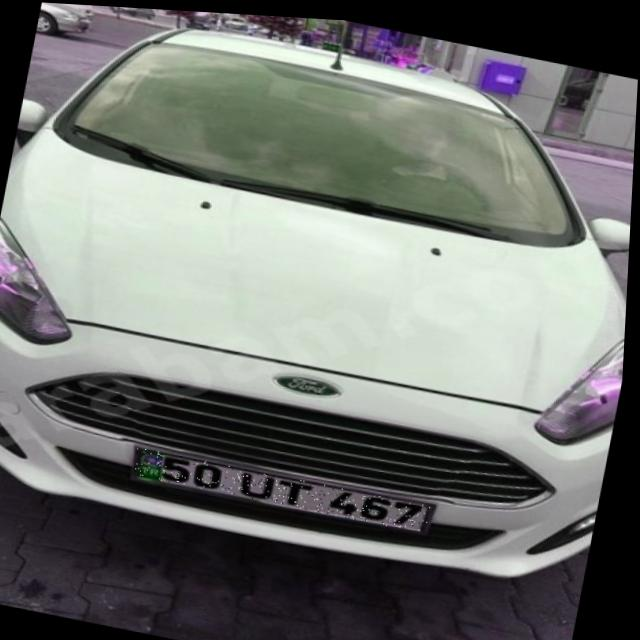license_plate: (135, 445, 437, 528)
